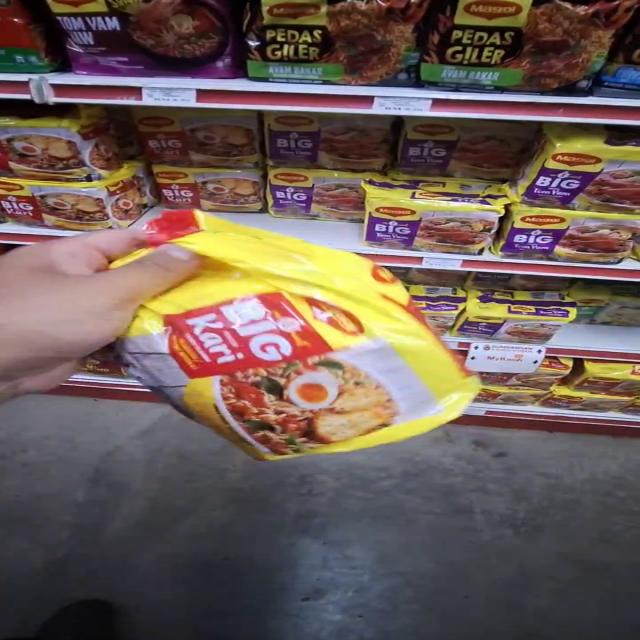Maggi: (130, 204, 472, 452)
